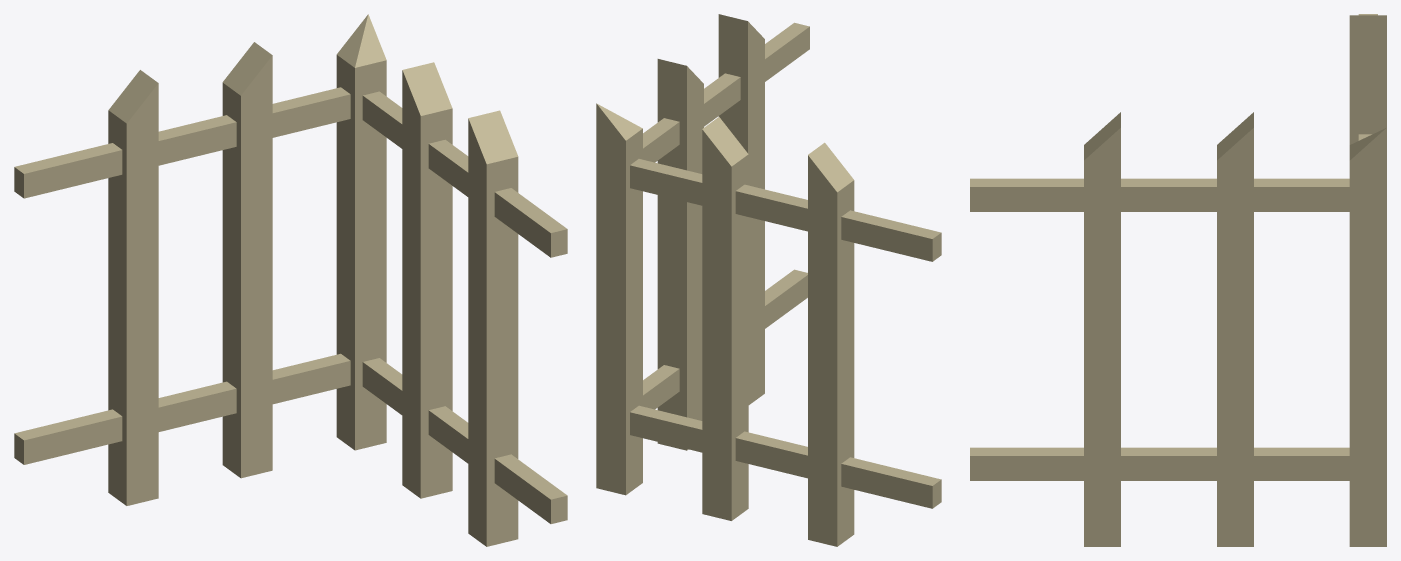
File: sm_fenceCorner.fbx
The picture shows the model from 3 angles, left to right: view 1: azimuth 30°, elevation 25°; view 2: azimuth 150°, elevation 25°; view 3: azimuth 270°, elevation 25°; orthographic projection. The views are drawn at different scales.
Visible parts, largest first — view 1: sm_fenceCorner; view 2: sm_fenceCorner; view 3: sm_fenceCorner.
Part boxes in pixels (<box>): sm_fenceCorner: <box>14,14,567,546</box>; sm_fenceCorner: <box>596,14,941,546</box>; sm_fenceCorner: <box>970,14,1386,546</box>.
Bounding box in the file's own units: 105 × 116 × 104.
